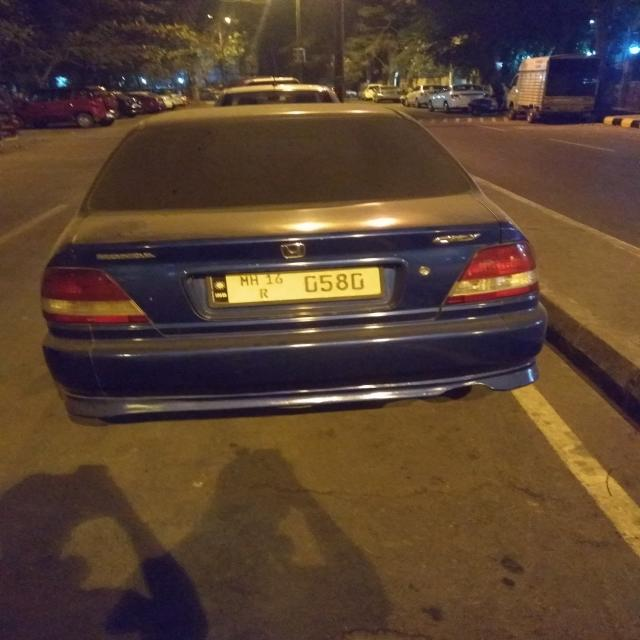Number-Plate: (214, 270, 380, 300)
